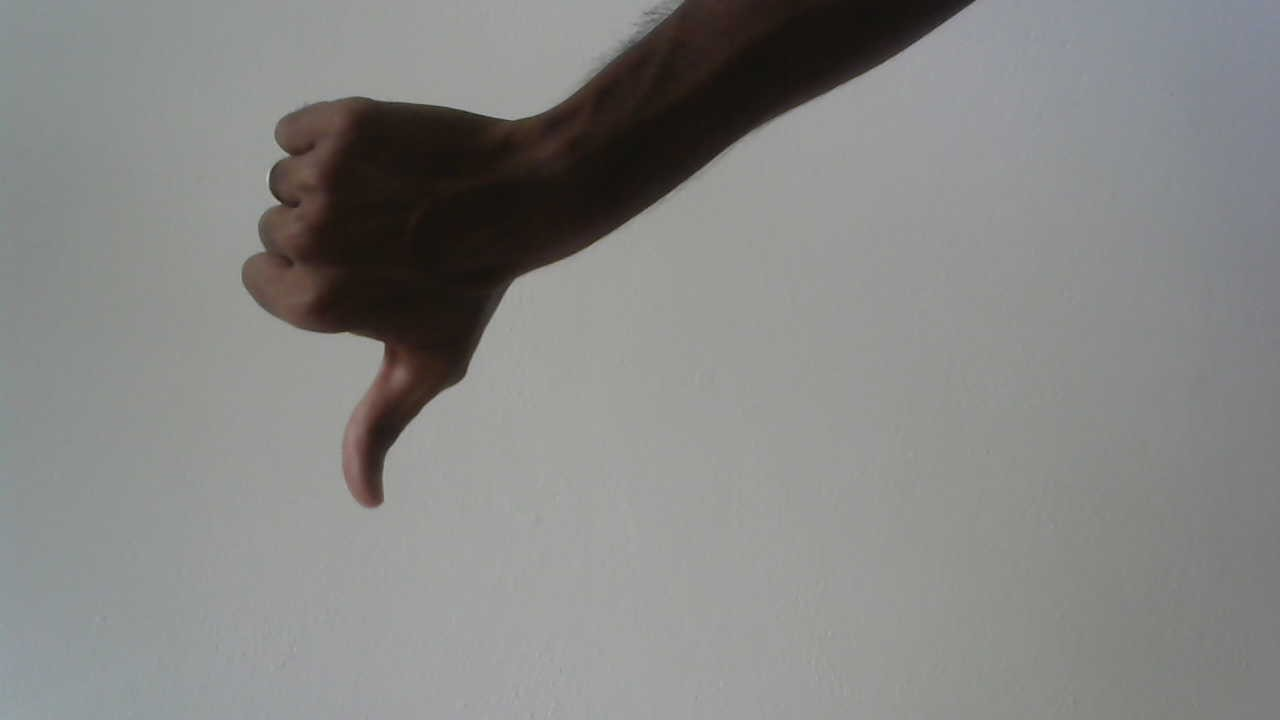thumbsdown: (230, 75, 553, 524)
